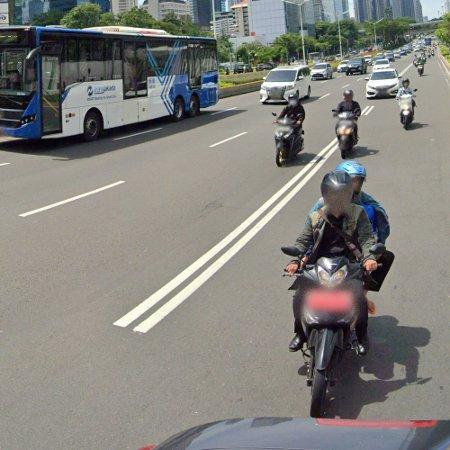motorcycles: (317, 257, 349, 288)
